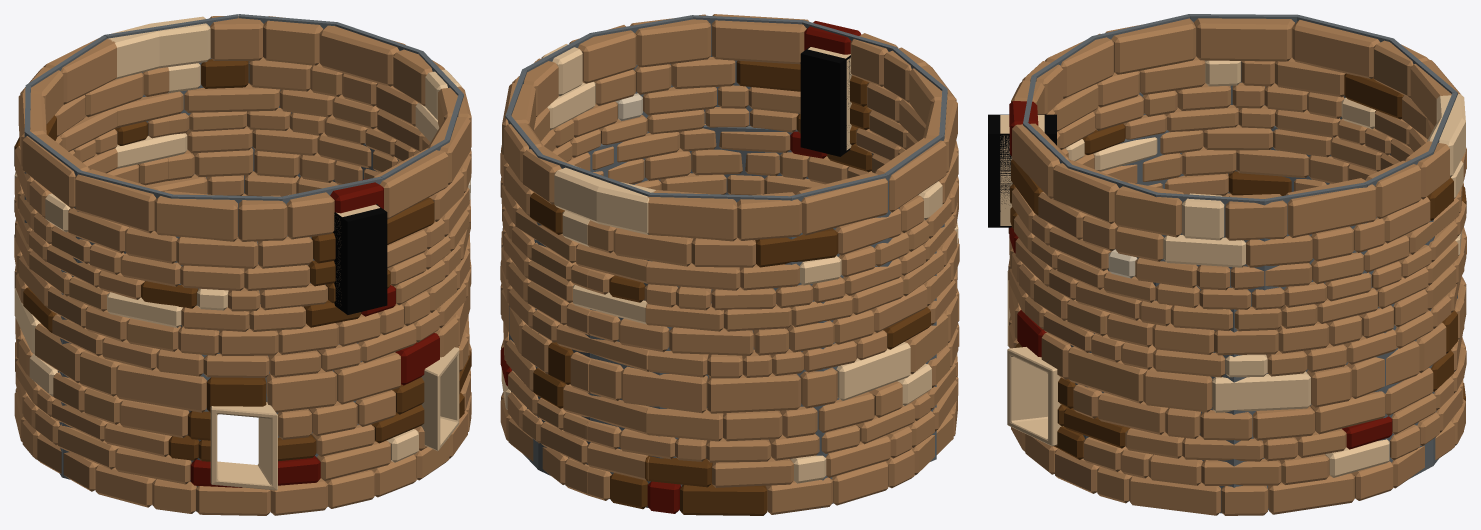
File: mid-section-with-three-slits-rb.glb
3 renders of one model, left to right at view 1: azimuth 30°, elevation 25°; view 2: azimuth 150°, elevation 25°; view 3: azimuth 270°, elevation 25°, orthographic.
Parts seen in each view (by area): view 1: main-wall.086, grout-wall.001, mid-section-with-three-slits, left-slit-frame, right-slit-frame; view 2: main-wall.086, grout-wall.001, mid-section-with-three-slits, upper-slit-frame; view 3: main-wall.086, grout-wall.001, right-slit-frame, mid-section-with-three-slits, upper-slit-frame.
Boxes of the visible parts, x1,y1,x2,y2 form: main-wall.086: (14, 16, 471, 515); grout-wall.001: (24, 14, 463, 511); mid-section-with-three-slits: (333, 204, 387, 314); left-slit-frame: (210, 402, 277, 490); right-slit-frame: (421, 347, 459, 450); main-wall.086: (500, 14, 959, 515); grout-wall.001: (505, 15, 947, 510); mid-section-with-three-slits: (800, 46, 851, 156); upper-slit-frame: (808, 47, 852, 150); main-wall.086: (1008, 18, 1466, 515); grout-wall.001: (1023, 14, 1457, 513); right-slit-frame: (1007, 347, 1063, 446); mid-section-with-three-slits: (988, 114, 1056, 227); upper-slit-frame: (1000, 115, 1044, 225).
Bounding box in the file's own units: 2 × 1.51 × 2.09.
